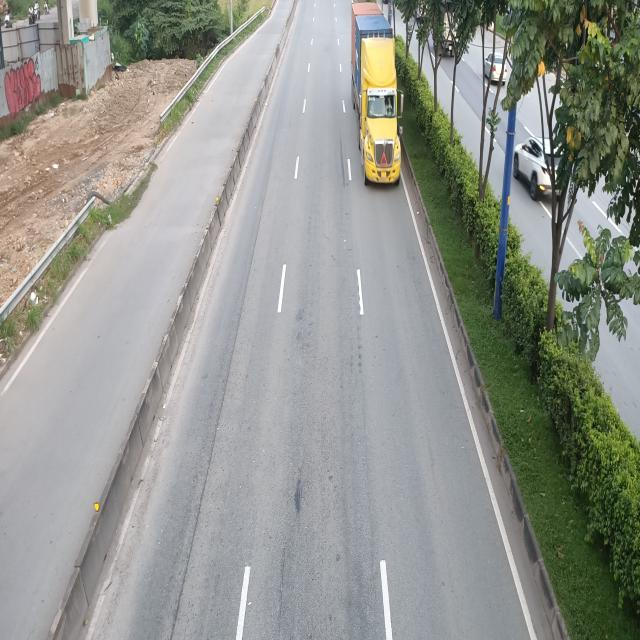container: (351, 1, 404, 184)
